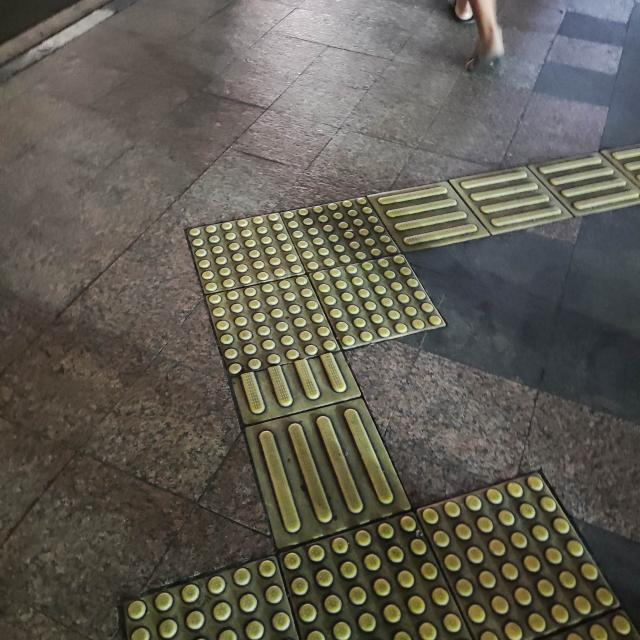kanan: (107, 137, 633, 457)
